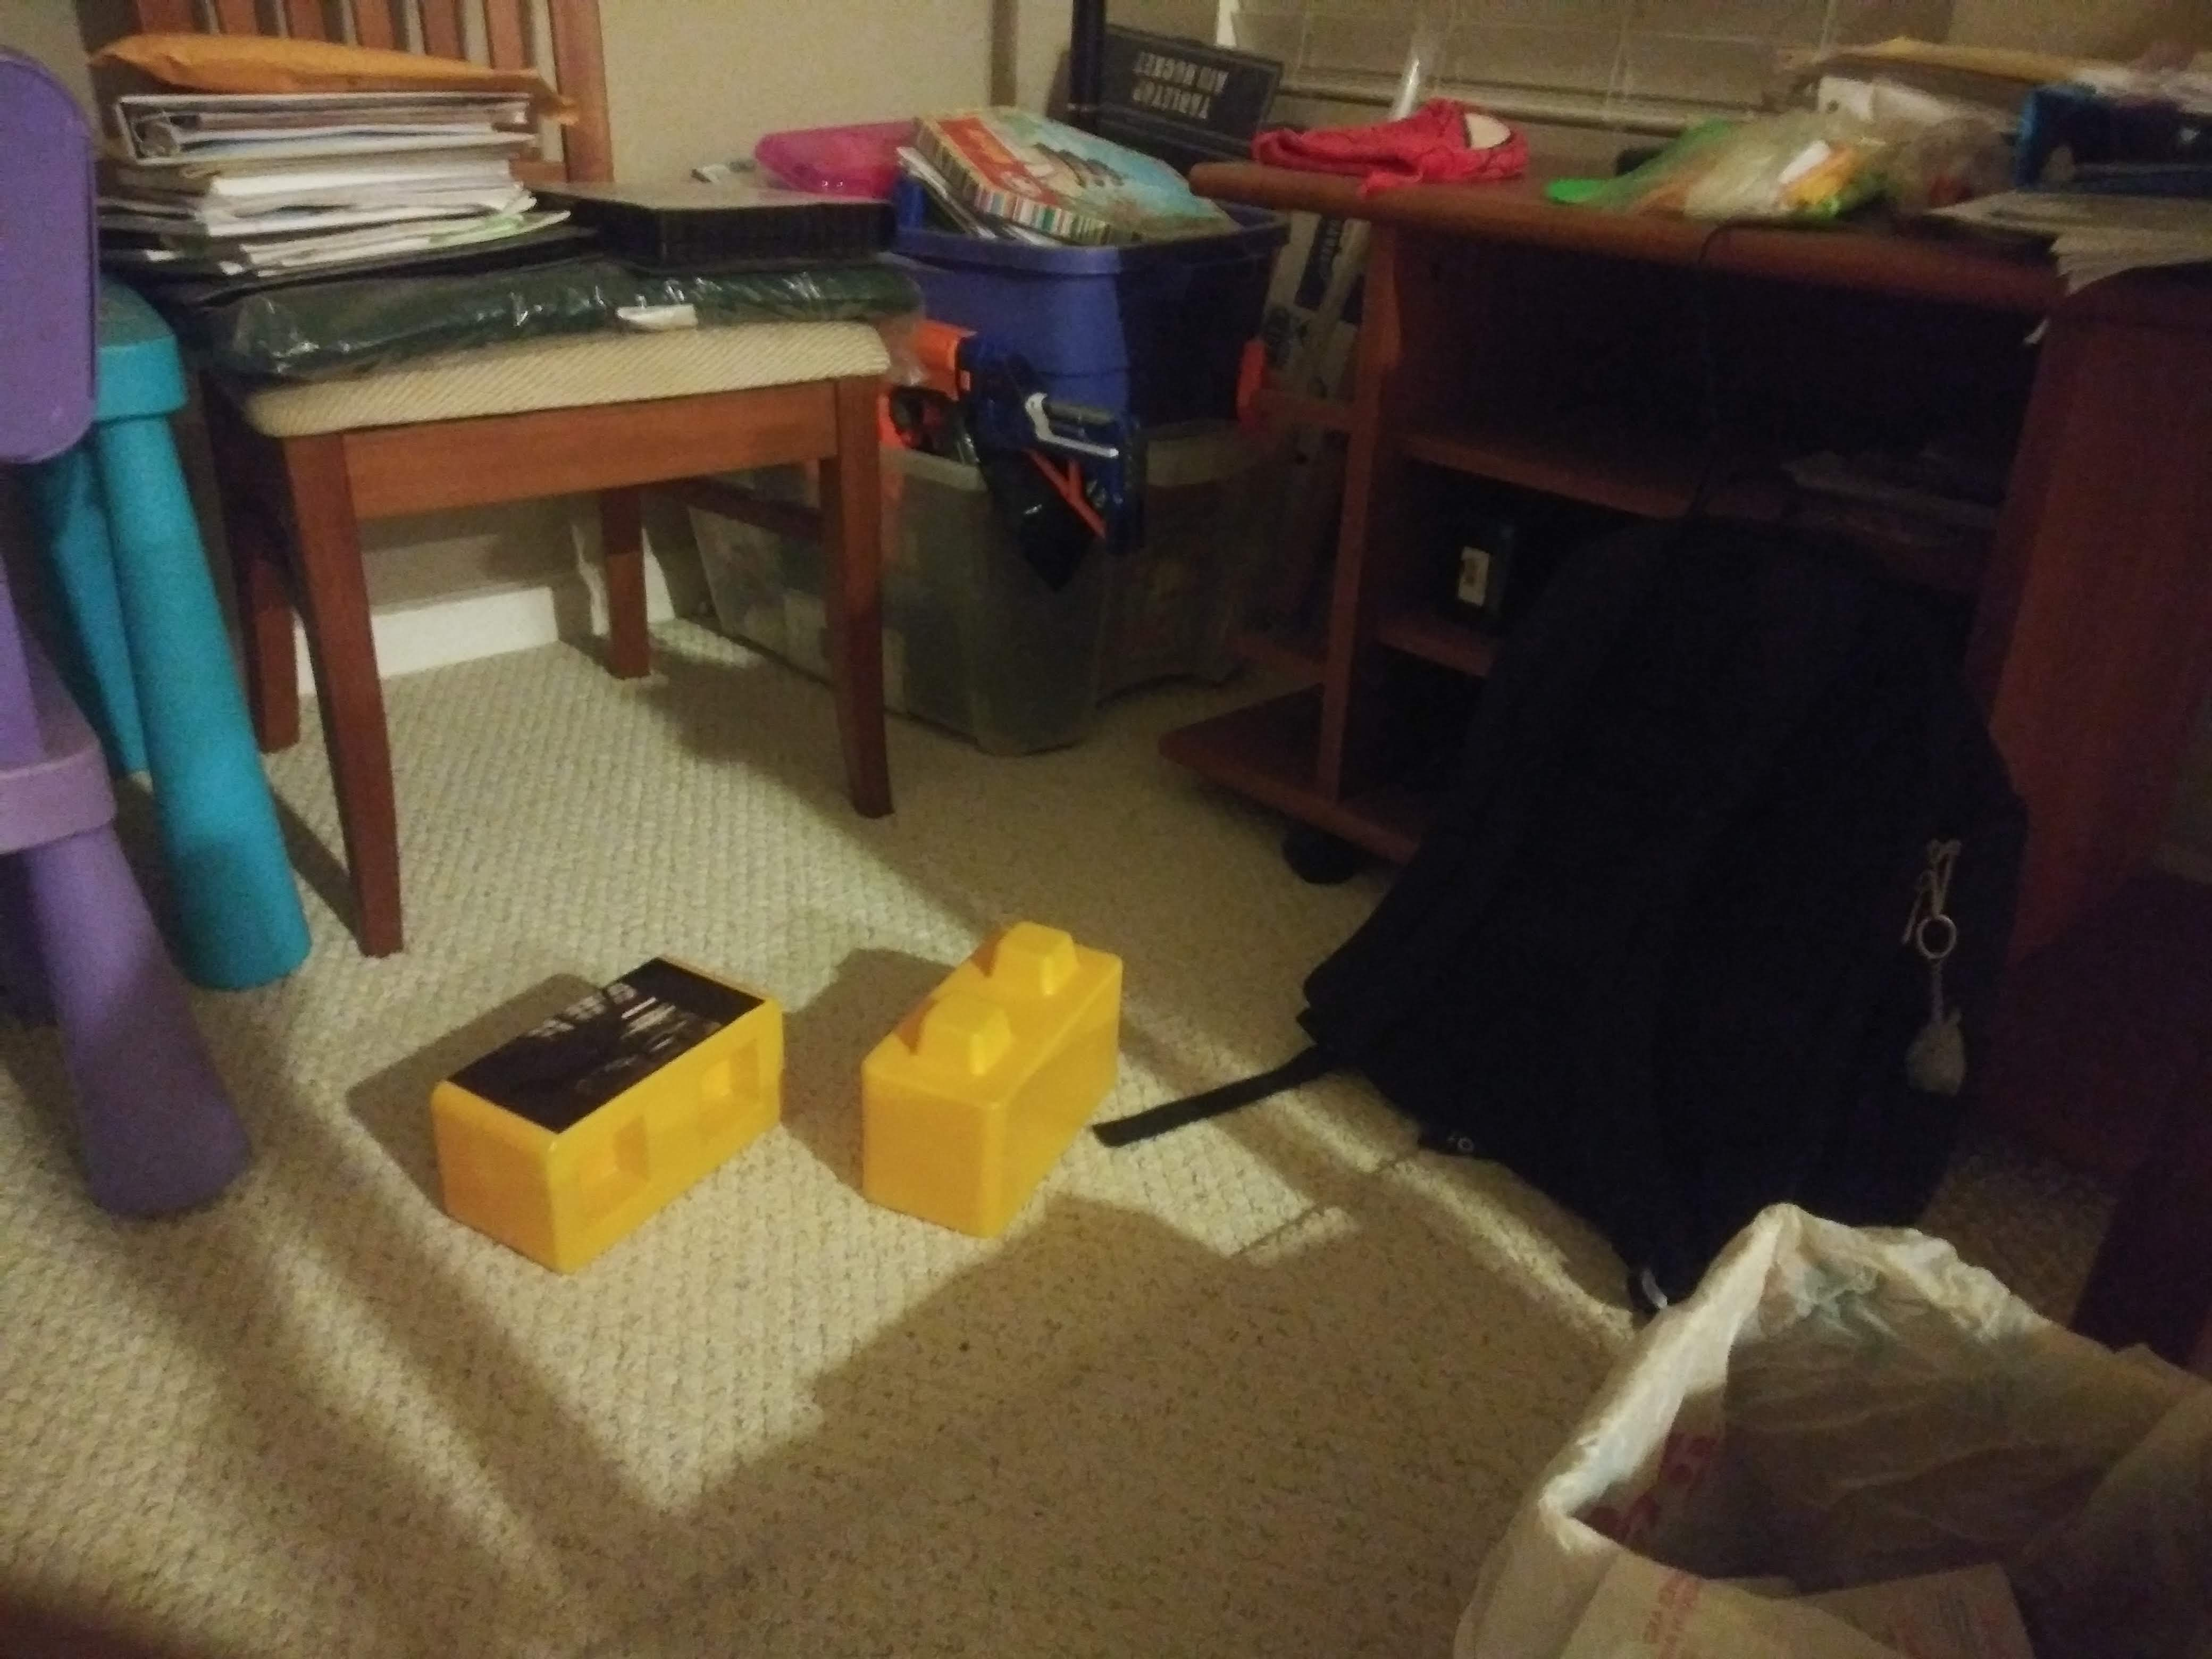skystone: (442, 983, 758, 1223)
stone: (864, 946, 1103, 1218)
